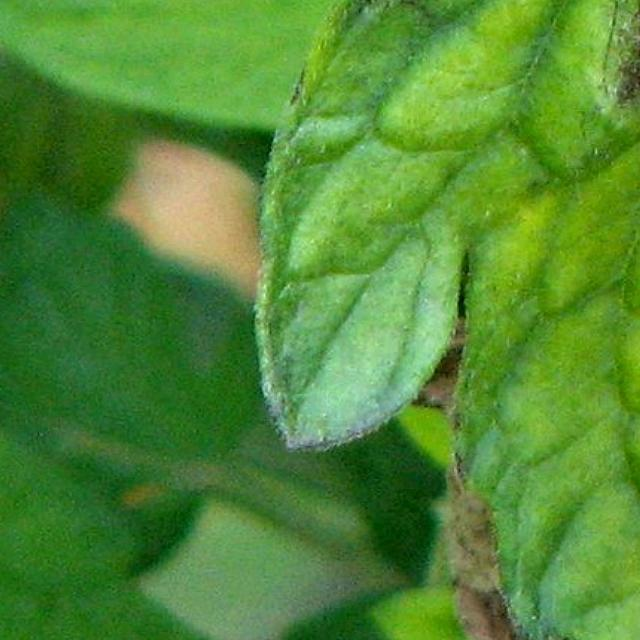Tomato leaf late blight: (17, 0, 640, 640)
